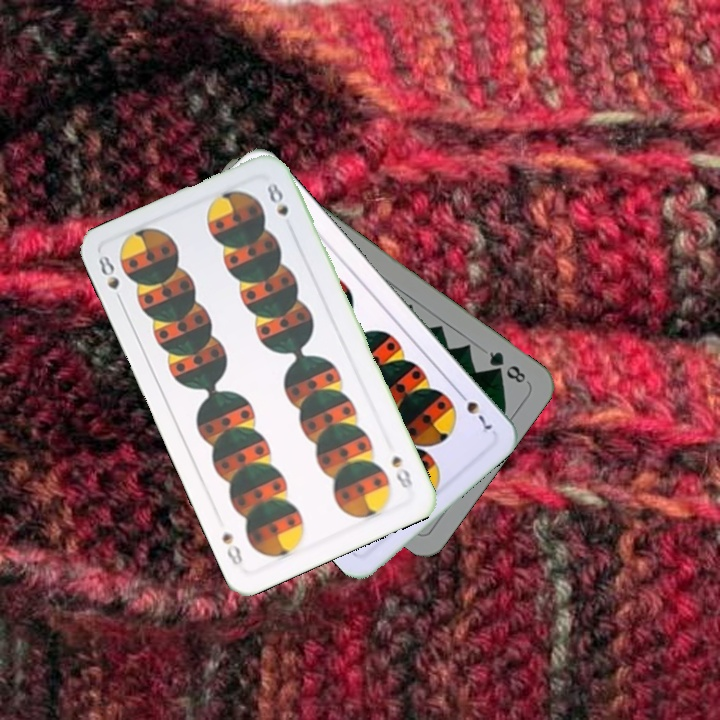G8: (485, 347, 529, 386)
S7: (453, 386, 495, 436)
S8: (94, 251, 126, 308), (387, 451, 416, 491)
